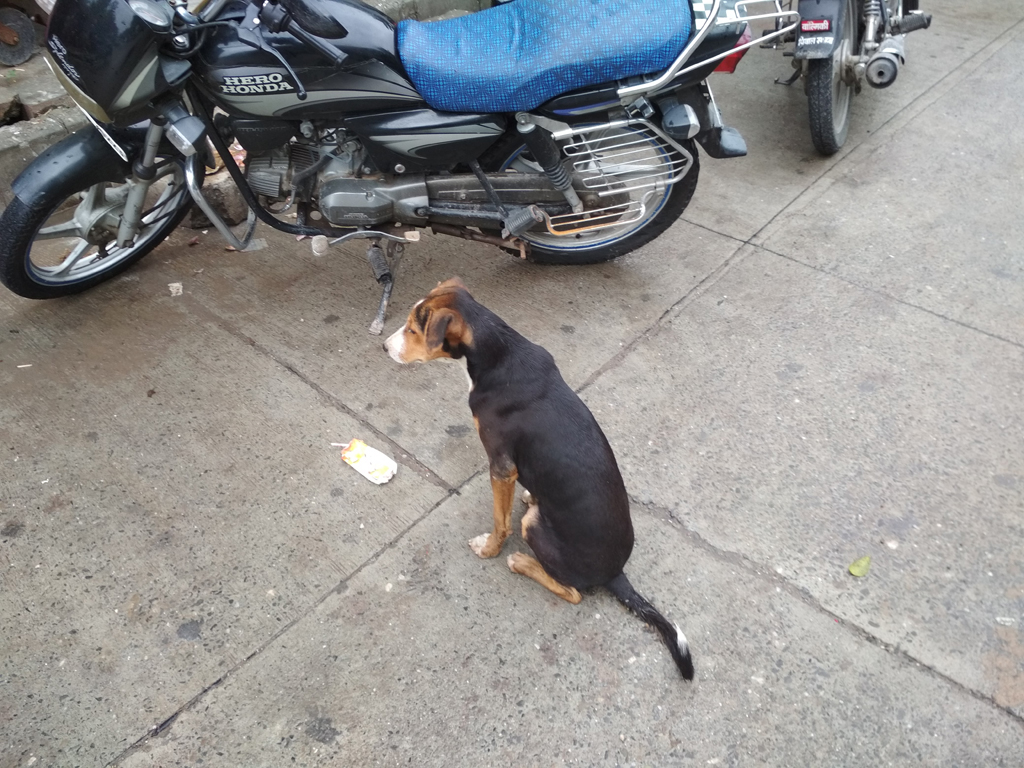dog: (384, 277, 701, 681)
